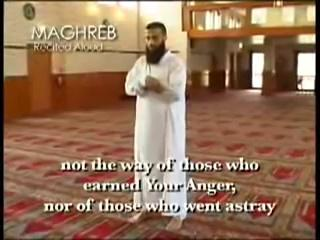qiyam: (124, 21, 187, 231)
